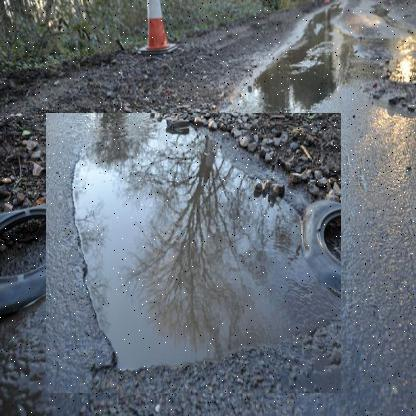pothole_water: (46, 113, 342, 394)
